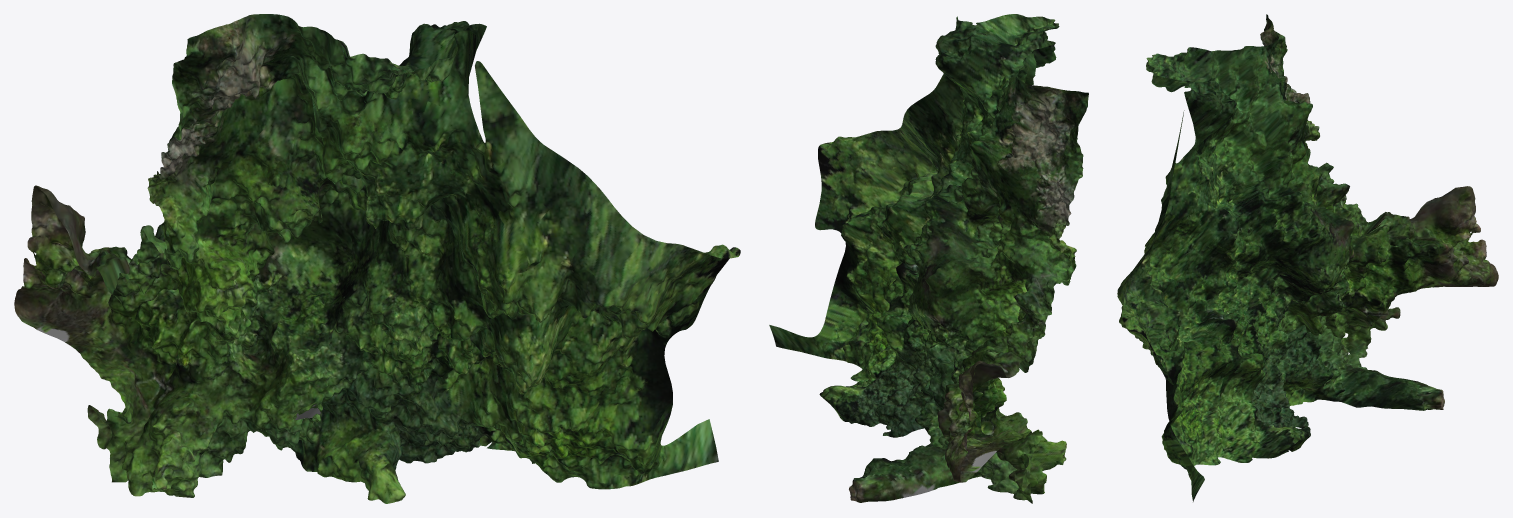
Rendered from Tile_+025_+011.fbx.
3 views of the same model, side by side, from view 1: azimuth 30°, elevation 25°; view 2: azimuth 150°, elevation 25°; view 3: azimuth 270°, elevation 25° (orthographic). The views are drawn at different scales.
Parts seen in each view (by area): view 1: DefaultName; view 2: DefaultName; view 3: DefaultName.
Part boxes in pixels (x1,y1,x2,y2): DefaultName: [14, 14, 740, 503]; DefaultName: [769, 14, 1088, 503]; DefaultName: [1117, 14, 1498, 501].
Bounding box in the file's own units: 22.54 × 22.54 × 23.31.
